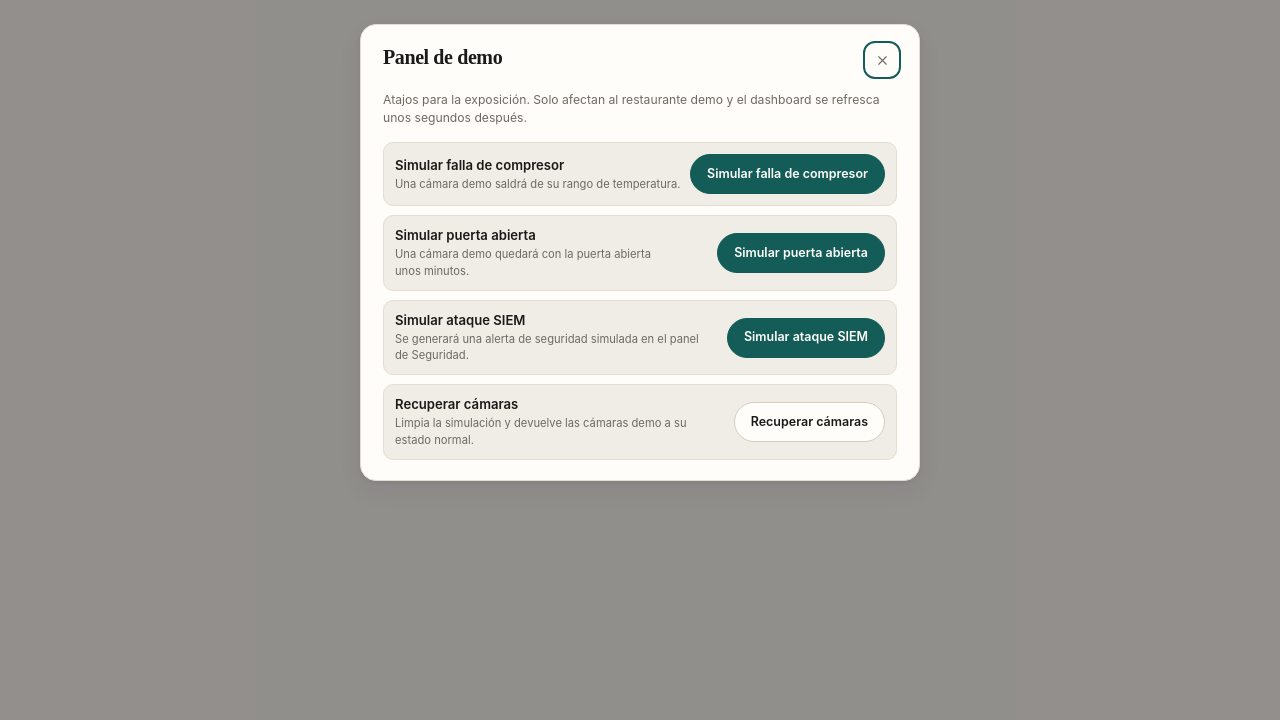
Scenario: PanelDemo › simula la falla sin cámara explícita y refresca a los 2 s y 30 s
Click the button "Simular falla de compresor".
click(788, 174)  # box [690,154,885,194]
Wait 30000 ms
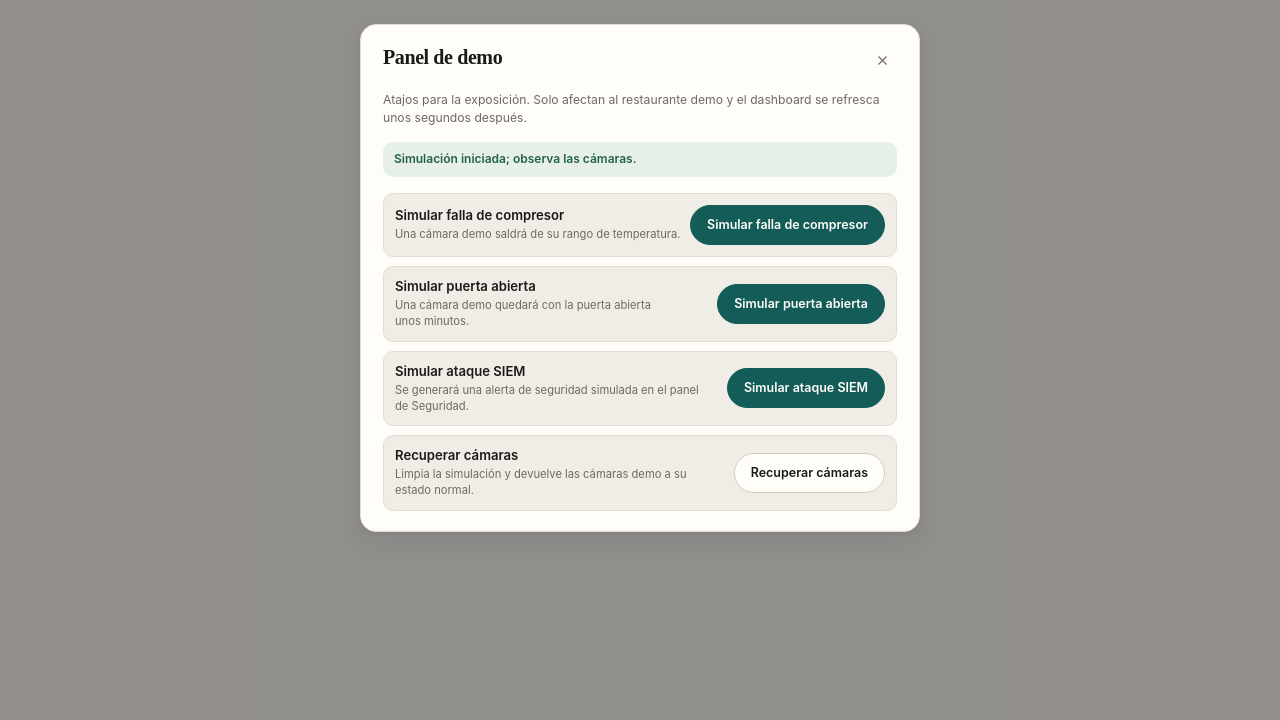
expect the text "Simulación iniciada; observa las cámaras." is shown: met, box [383,142,897,177]
